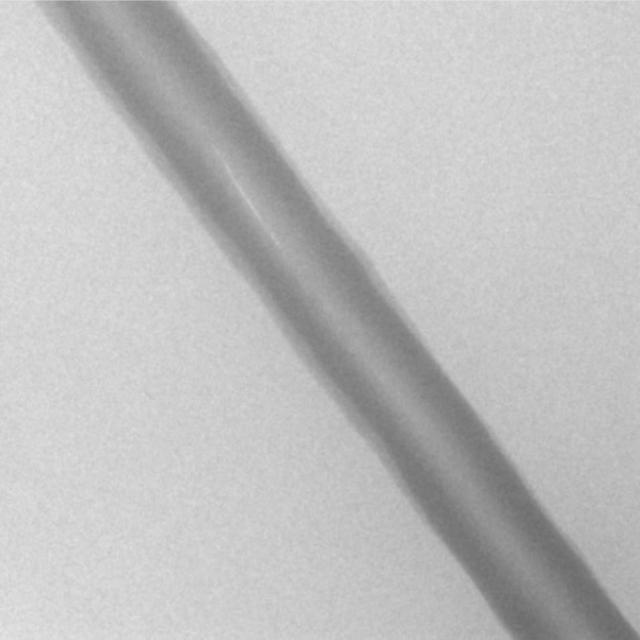crack: (224, 161, 283, 251)
